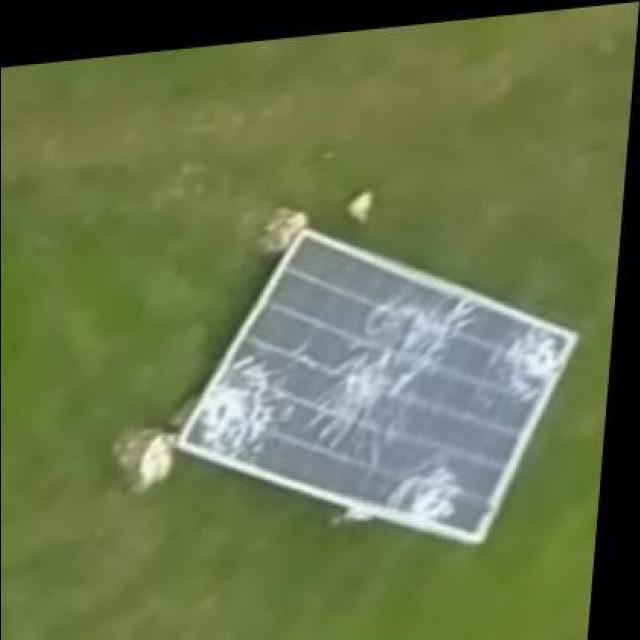cracked: (173, 227, 582, 558)
